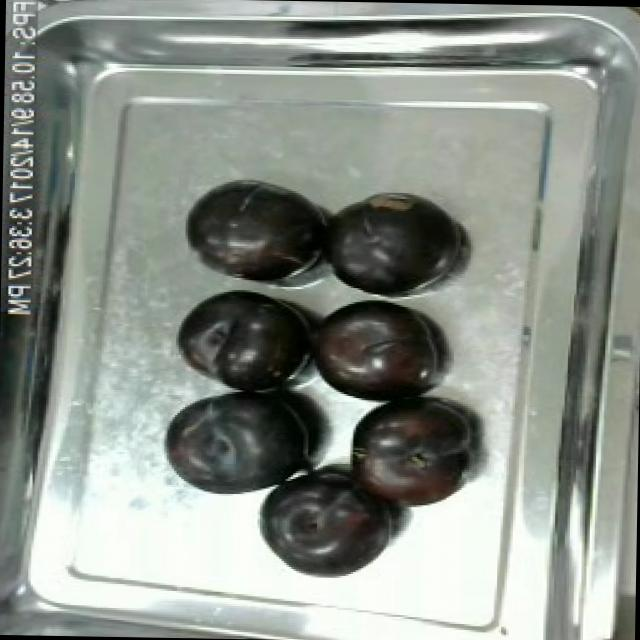Fruit: (153, 379, 329, 506), (337, 384, 478, 520), (164, 279, 320, 396), (299, 290, 447, 412), (176, 175, 328, 292), (256, 471, 402, 585), (321, 188, 462, 300)
